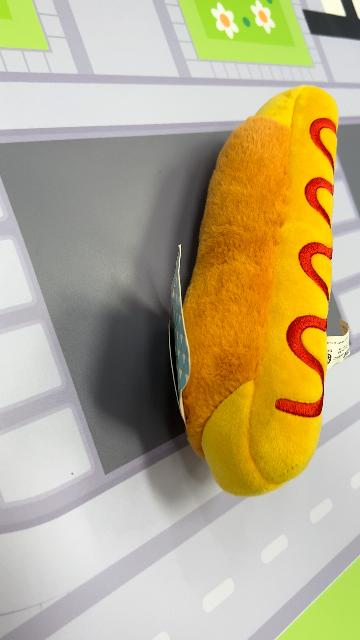hotdog: (176, 84, 342, 498)
